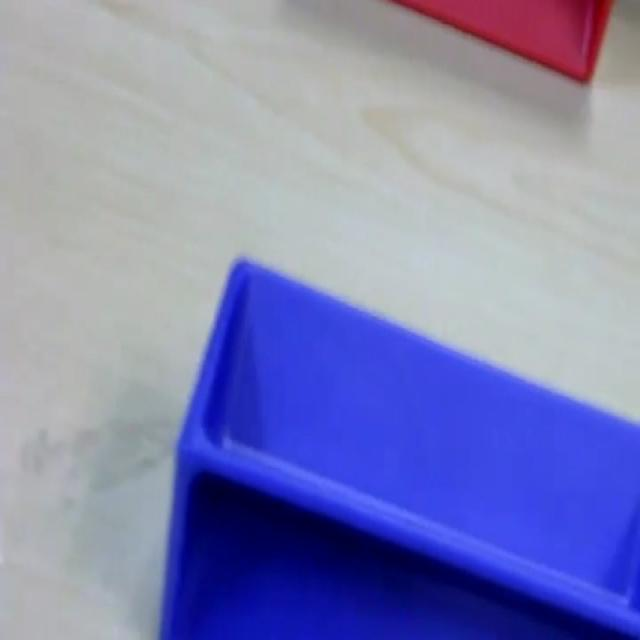blue_block: (157, 253, 638, 636)
